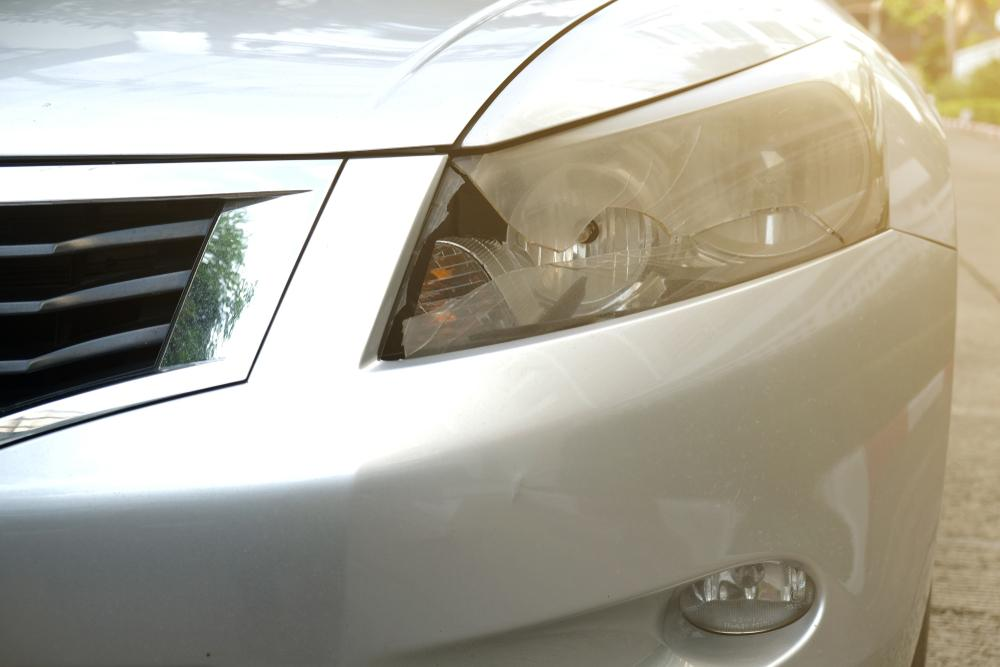lamp broken: (374, 43, 891, 363)
